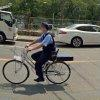bicycles: (2, 45, 72, 86)
